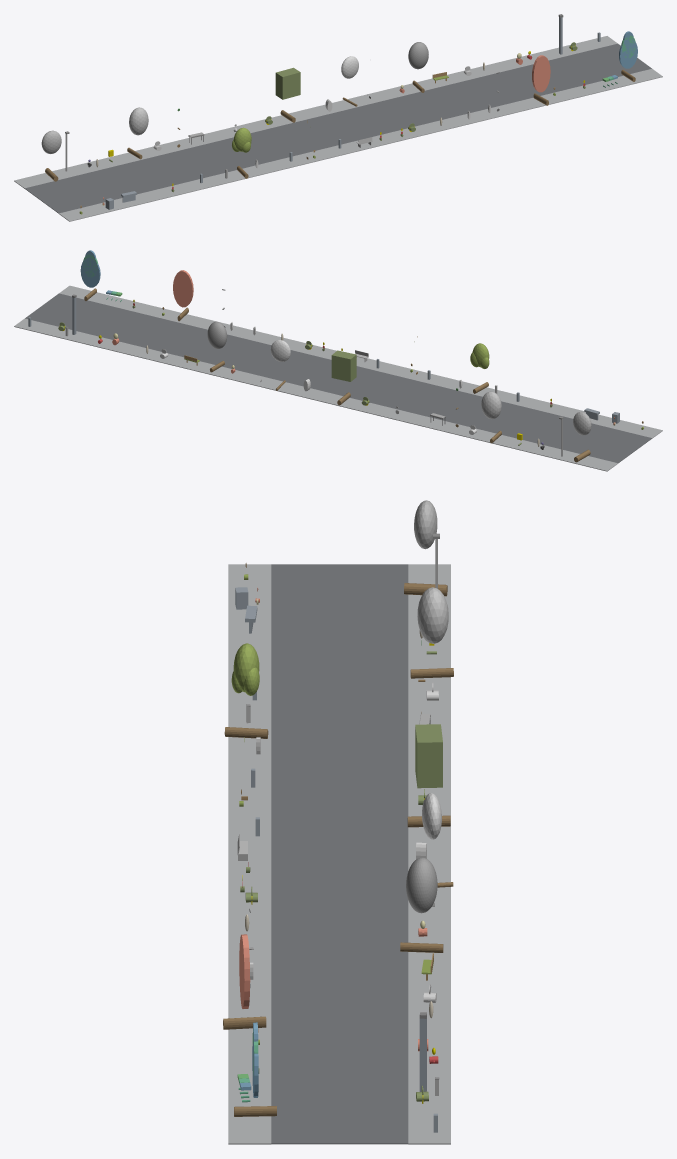
3 views of the same model, one above another, from view 1: azimuth 30°, elevation 25°; view 2: azimuth 150°, elevation 25°; view 3: azimuth 270°, elevation 25° (orthographic). The views are drawn at different scales.
Parts seen in each view (by area): view 1: road_slab, sidewalk_left, sidewalk_right, inst_0021, inst_0024, inst_0025, inst_0019, inst_0023, inst_0020, inst_0018, inst_0022; view 2: road_slab, sidewalk_right, sidewalk_left, inst_0021, inst_0024, inst_0025, inst_0019, inst_0023, inst_0020, inst_0018, inst_0022; view 3: road_slab, sidewalk_left, sidewalk_right, inst_0021, inst_0019, inst_0023, inst_0020, inst_0018, inst_0024, inst_0025.
Part boxes in pixels (x1,y1,x2,y2): road_slab: (24, 43, 651, 213); sidewalk_left: (59, 68, 662, 221); sidewalk_right: (14, 36, 617, 188); inst_0021: (275, 67, 300, 122); inst_0024: (532, 55, 550, 105); inst_0025: (619, 31, 637, 81); inst_0019: (127, 107, 148, 159); inst_0023: (408, 42, 428, 92); inst_0020: (232, 127, 251, 178); inst_0018: (41, 130, 61, 181); inst_0022: (341, 56, 358, 106); road_slab: (25, 293, 652, 463); sidewalk_right: (14, 318, 617, 471); sidewalk_left: (59, 285, 662, 438); inst_0021: (331, 350, 356, 405); inst_0024: (173, 270, 193, 321); inst_0025: (80, 250, 100, 300); inst_0019: (481, 391, 501, 443); inst_0023: (207, 321, 227, 372); inst_0020: (470, 343, 489, 393); inst_0018: (573, 411, 591, 462); inst_0022: (270, 340, 290, 390); road_slab: (271, 564, 408, 1144); sidewalk_left: (228, 564, 271, 1144); sidewalk_right: (408, 564, 450, 1144); inst_0021: (407, 724, 450, 827); inst_0019: (410, 587, 453, 678); inst_0023: (400, 857, 443, 952); inst_0020: (224, 643, 268, 738); inst_0018: (404, 500, 447, 596); inst_0024: (223, 934, 266, 1029); inst_0025: (234, 1022, 276, 1116).
Size of the model in its own units: 80 by 6.08 by 13.47.
